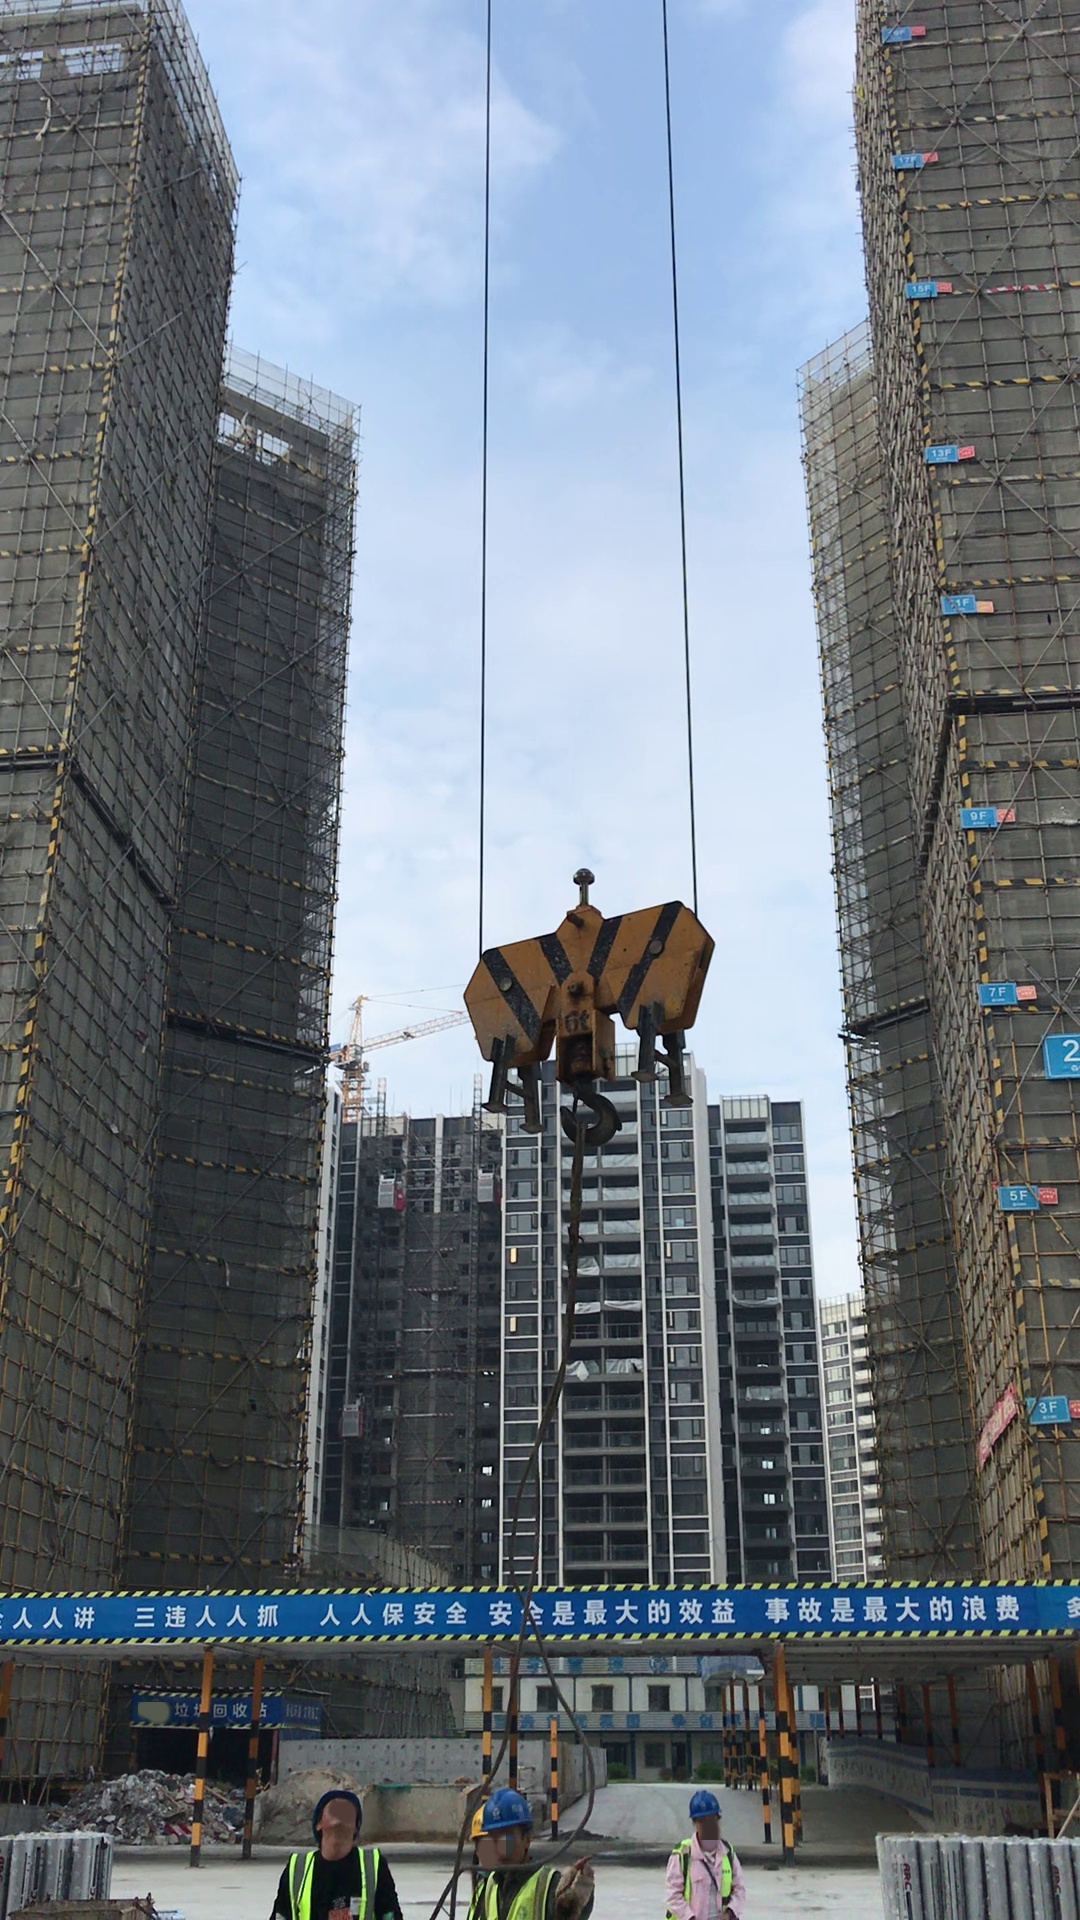helmet: (460, 1787, 539, 1836), (687, 1788, 730, 1824)
hook: (454, 872, 710, 1156)
person: (442, 1779, 605, 1920), (266, 1785, 405, 1920), (665, 1793, 754, 1920)
slogan: (6, 1592, 1080, 1637), (142, 1693, 323, 1730), (970, 1383, 1012, 1476), (1043, 1037, 1080, 1080), (899, 279, 949, 307), (933, 592, 987, 617), (890, 144, 933, 174), (955, 802, 999, 829), (875, 22, 916, 53), (1026, 1394, 1067, 1424), (978, 981, 1018, 1011), (923, 441, 973, 462), (996, 1187, 1037, 1210)
vest: (292, 1840, 384, 1920), (465, 1863, 563, 1920), (671, 1835, 735, 1915)
